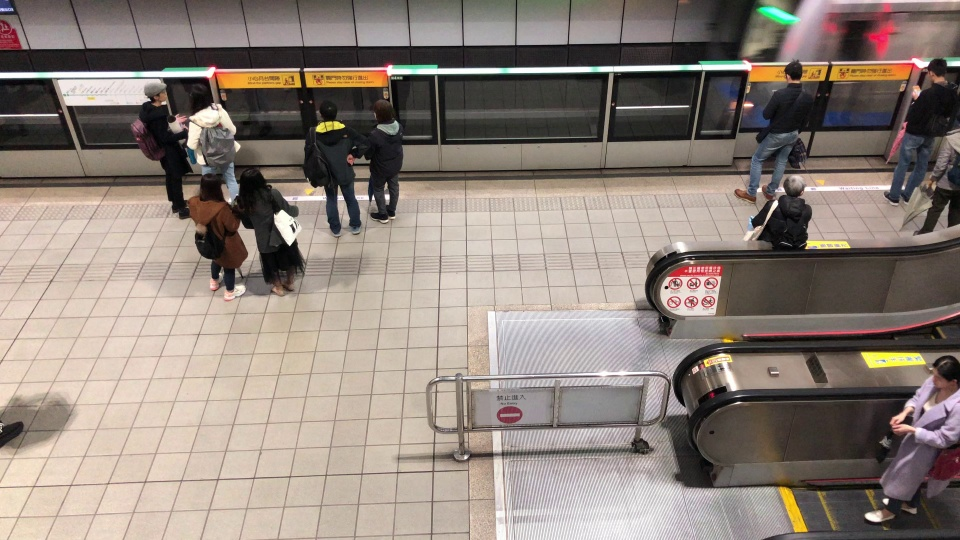person_head: (236, 167, 272, 206), (929, 355, 960, 392), (195, 172, 226, 205), (778, 174, 808, 201), (923, 57, 949, 84), (368, 101, 396, 126), (781, 59, 805, 88), (187, 84, 212, 110), (141, 81, 168, 103), (318, 100, 340, 122), (946, 109, 959, 135)
person_vbox: (859, 355, 960, 527), (731, 59, 818, 203), (881, 56, 960, 206), (227, 165, 305, 301), (125, 81, 194, 218), (297, 100, 363, 238), (181, 173, 248, 301), (178, 85, 248, 205), (349, 101, 415, 227), (897, 109, 960, 236), (741, 173, 813, 254)
